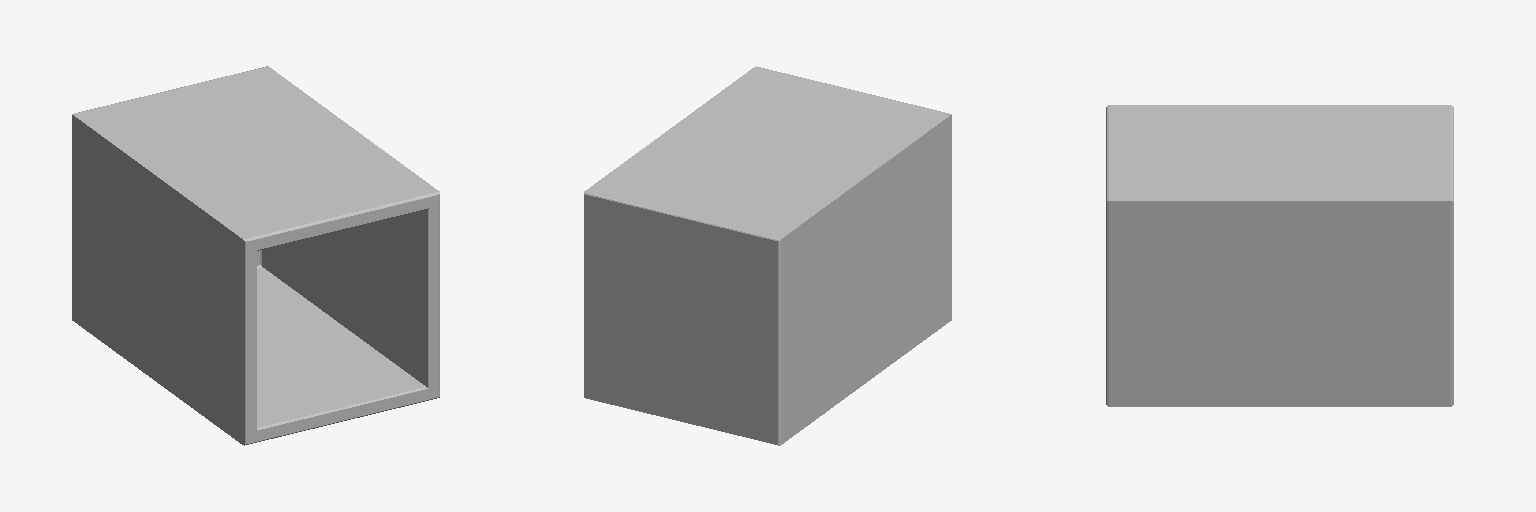
Rendered from glass.obj.
3 renders of one model, left to right at view 1: azimuth 30°, elevation 25°; view 2: azimuth 150°, elevation 25°; view 3: azimuth 270°, elevation 25°, orthographic.
Parts seen in each view (by area): view 1: Cube; view 2: Cube; view 3: Cube.
Boxes of the visible parts, box(x1,y1,x2,y2) form: Cube: box(72, 66, 439, 445); Cube: box(584, 66, 951, 445); Cube: box(1106, 105, 1453, 406).
Bounding box in the file's own units: 6.38 × 6.39 × 9.76.